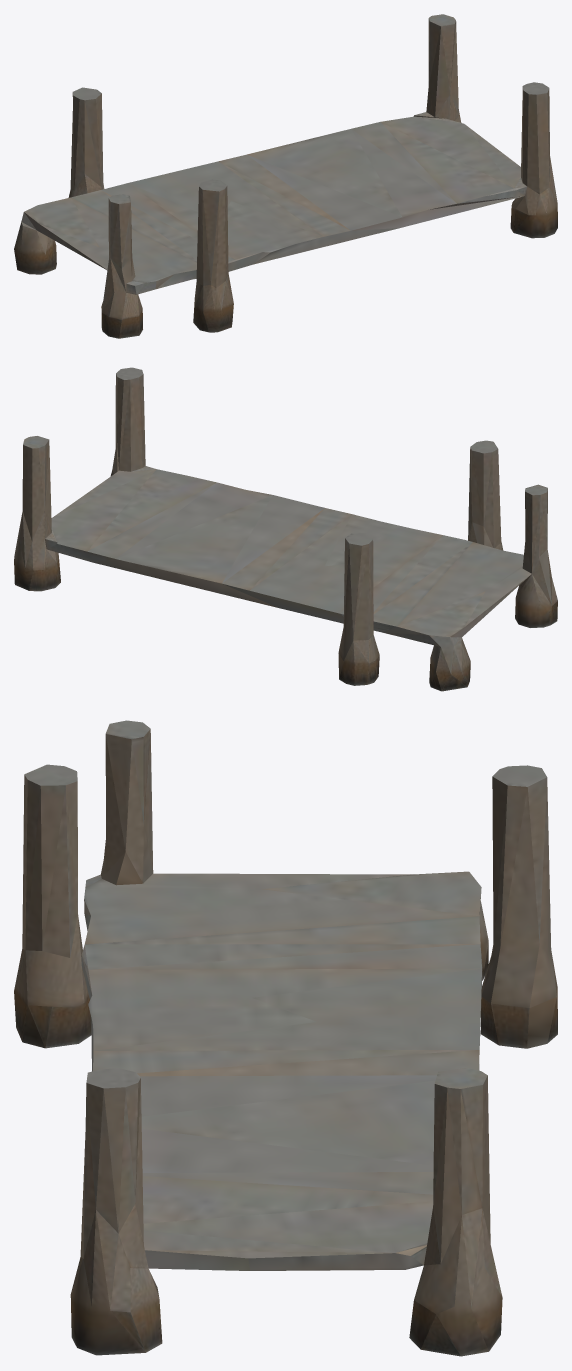
Rendered from ponton.glb.
3 renders of one model, top to bottom at view 1: azimuth 30°, elevation 25°; view 2: azimuth 150°, elevation 25°; view 3: azimuth 270°, elevation 25°, orthographic. The views are drawn at different scales.
Visible parts, largest first — view 1: mesh_node; view 2: mesh_node; view 3: mesh_node.
Boxes of the visible parts, <box> form: mesh_node: <box>14,14,557,338</box>; mesh_node: <box>14,367,557,691</box>; mesh_node: <box>14,720,557,1356</box>.
Bounding box in the file's own units: 1.9 × 0.5827 × 1.08.
Materials: 1 (1 with a texture image).
